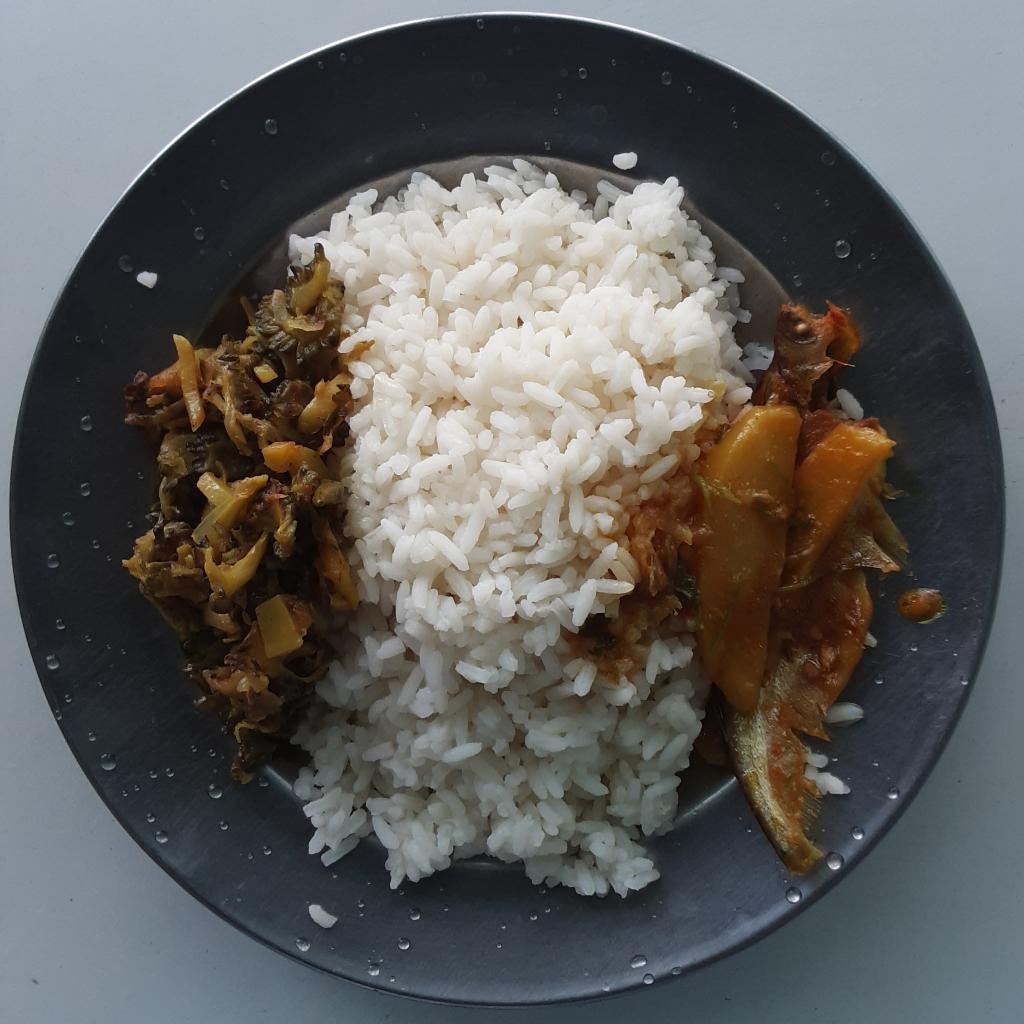fish: (714, 474, 913, 877), (743, 299, 869, 462)
korola-vaji: (123, 262, 359, 759)
potato: (699, 399, 893, 717)
rice: (281, 161, 774, 895)
